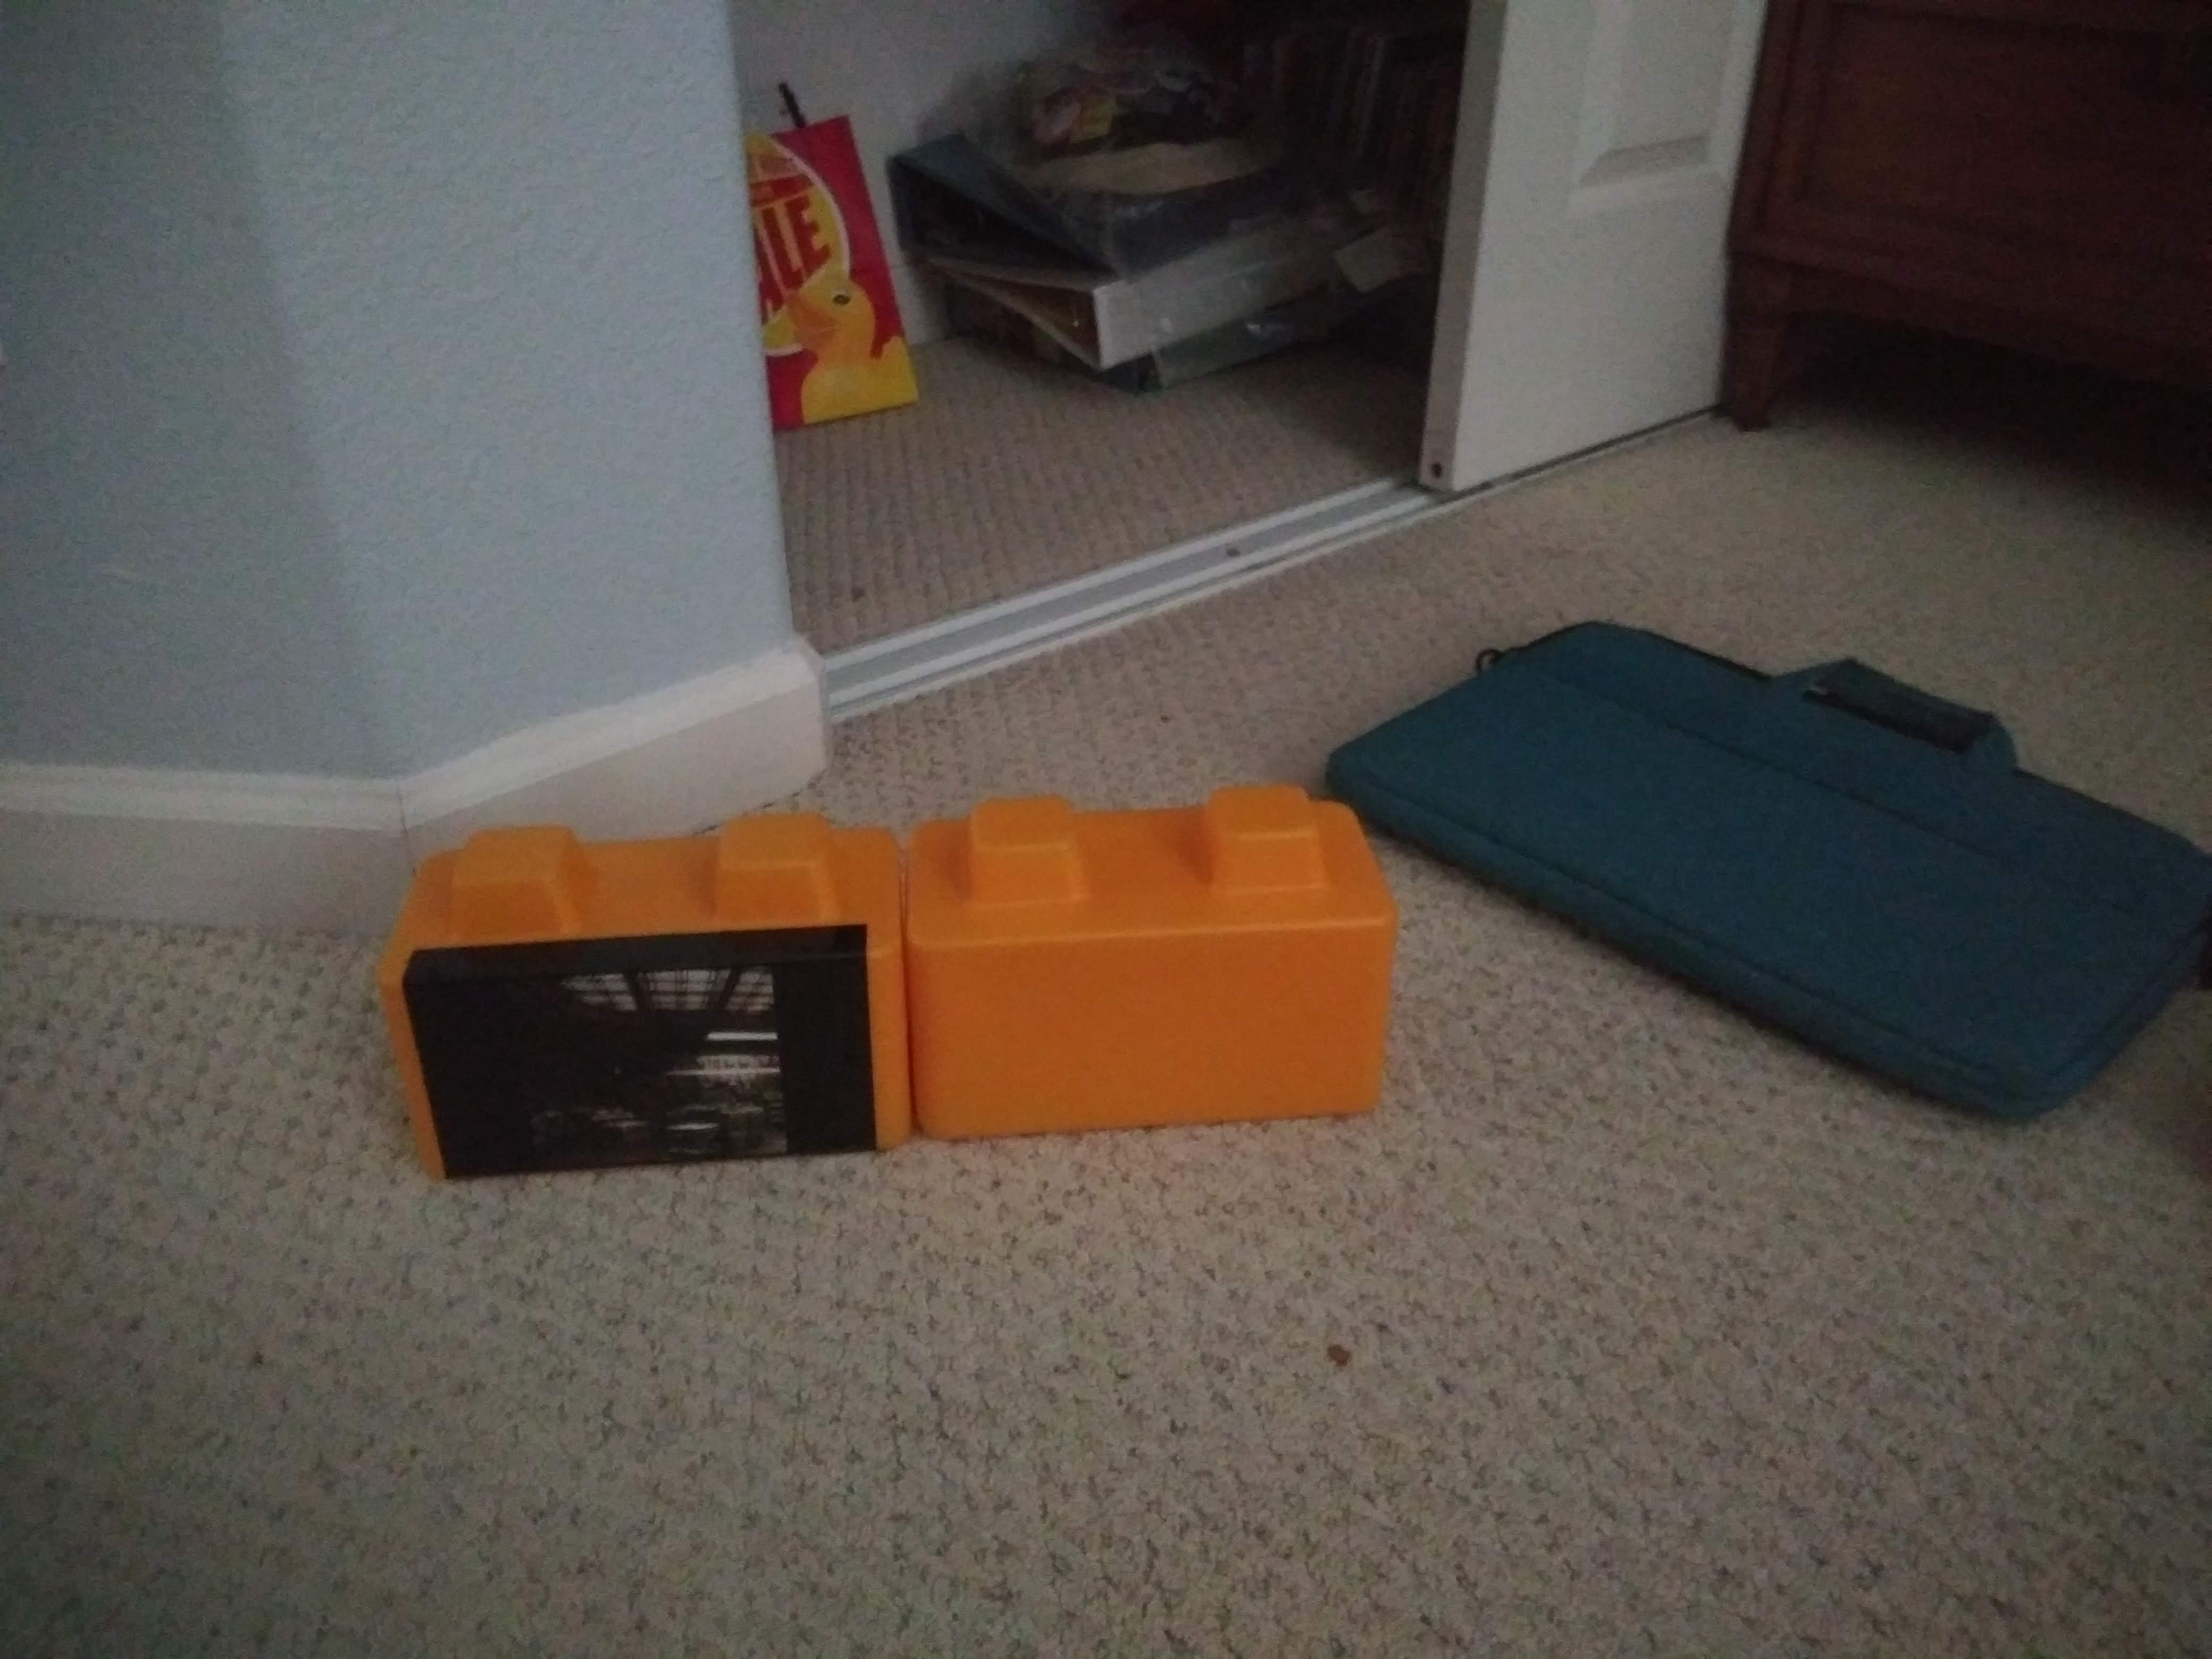skystone: (374, 859, 888, 1171)
stone: (925, 842, 1388, 1129)
